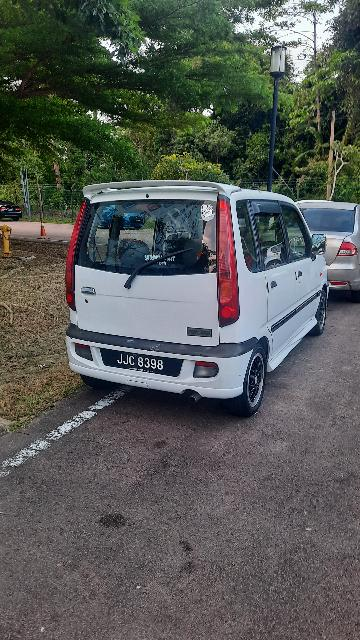License_Plate: (96, 343, 190, 382)
car: (56, 175, 354, 422)
